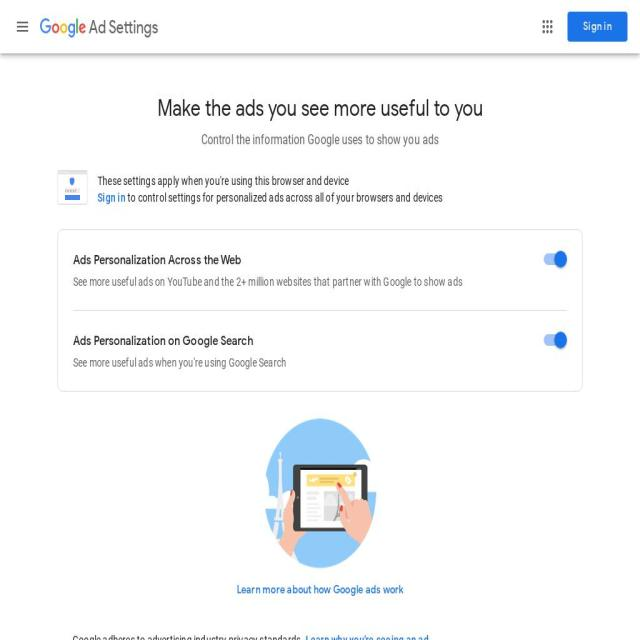button: (236, 582, 404, 598), (40, 18, 158, 38), (568, 12, 628, 42), (8, 6, 38, 46), (535, 10, 560, 43), (98, 189, 126, 206)
image: (15, 16, 30, 36), (540, 16, 555, 36)
link: (305, 633, 429, 640)
text: (58, 94, 582, 124), (58, 130, 582, 150), (73, 273, 567, 290), (73, 354, 567, 371), (73, 331, 480, 351), (73, 250, 476, 270), (98, 173, 582, 189), (125, 191, 443, 204), (72, 633, 306, 640), (86, 16, 158, 38)
